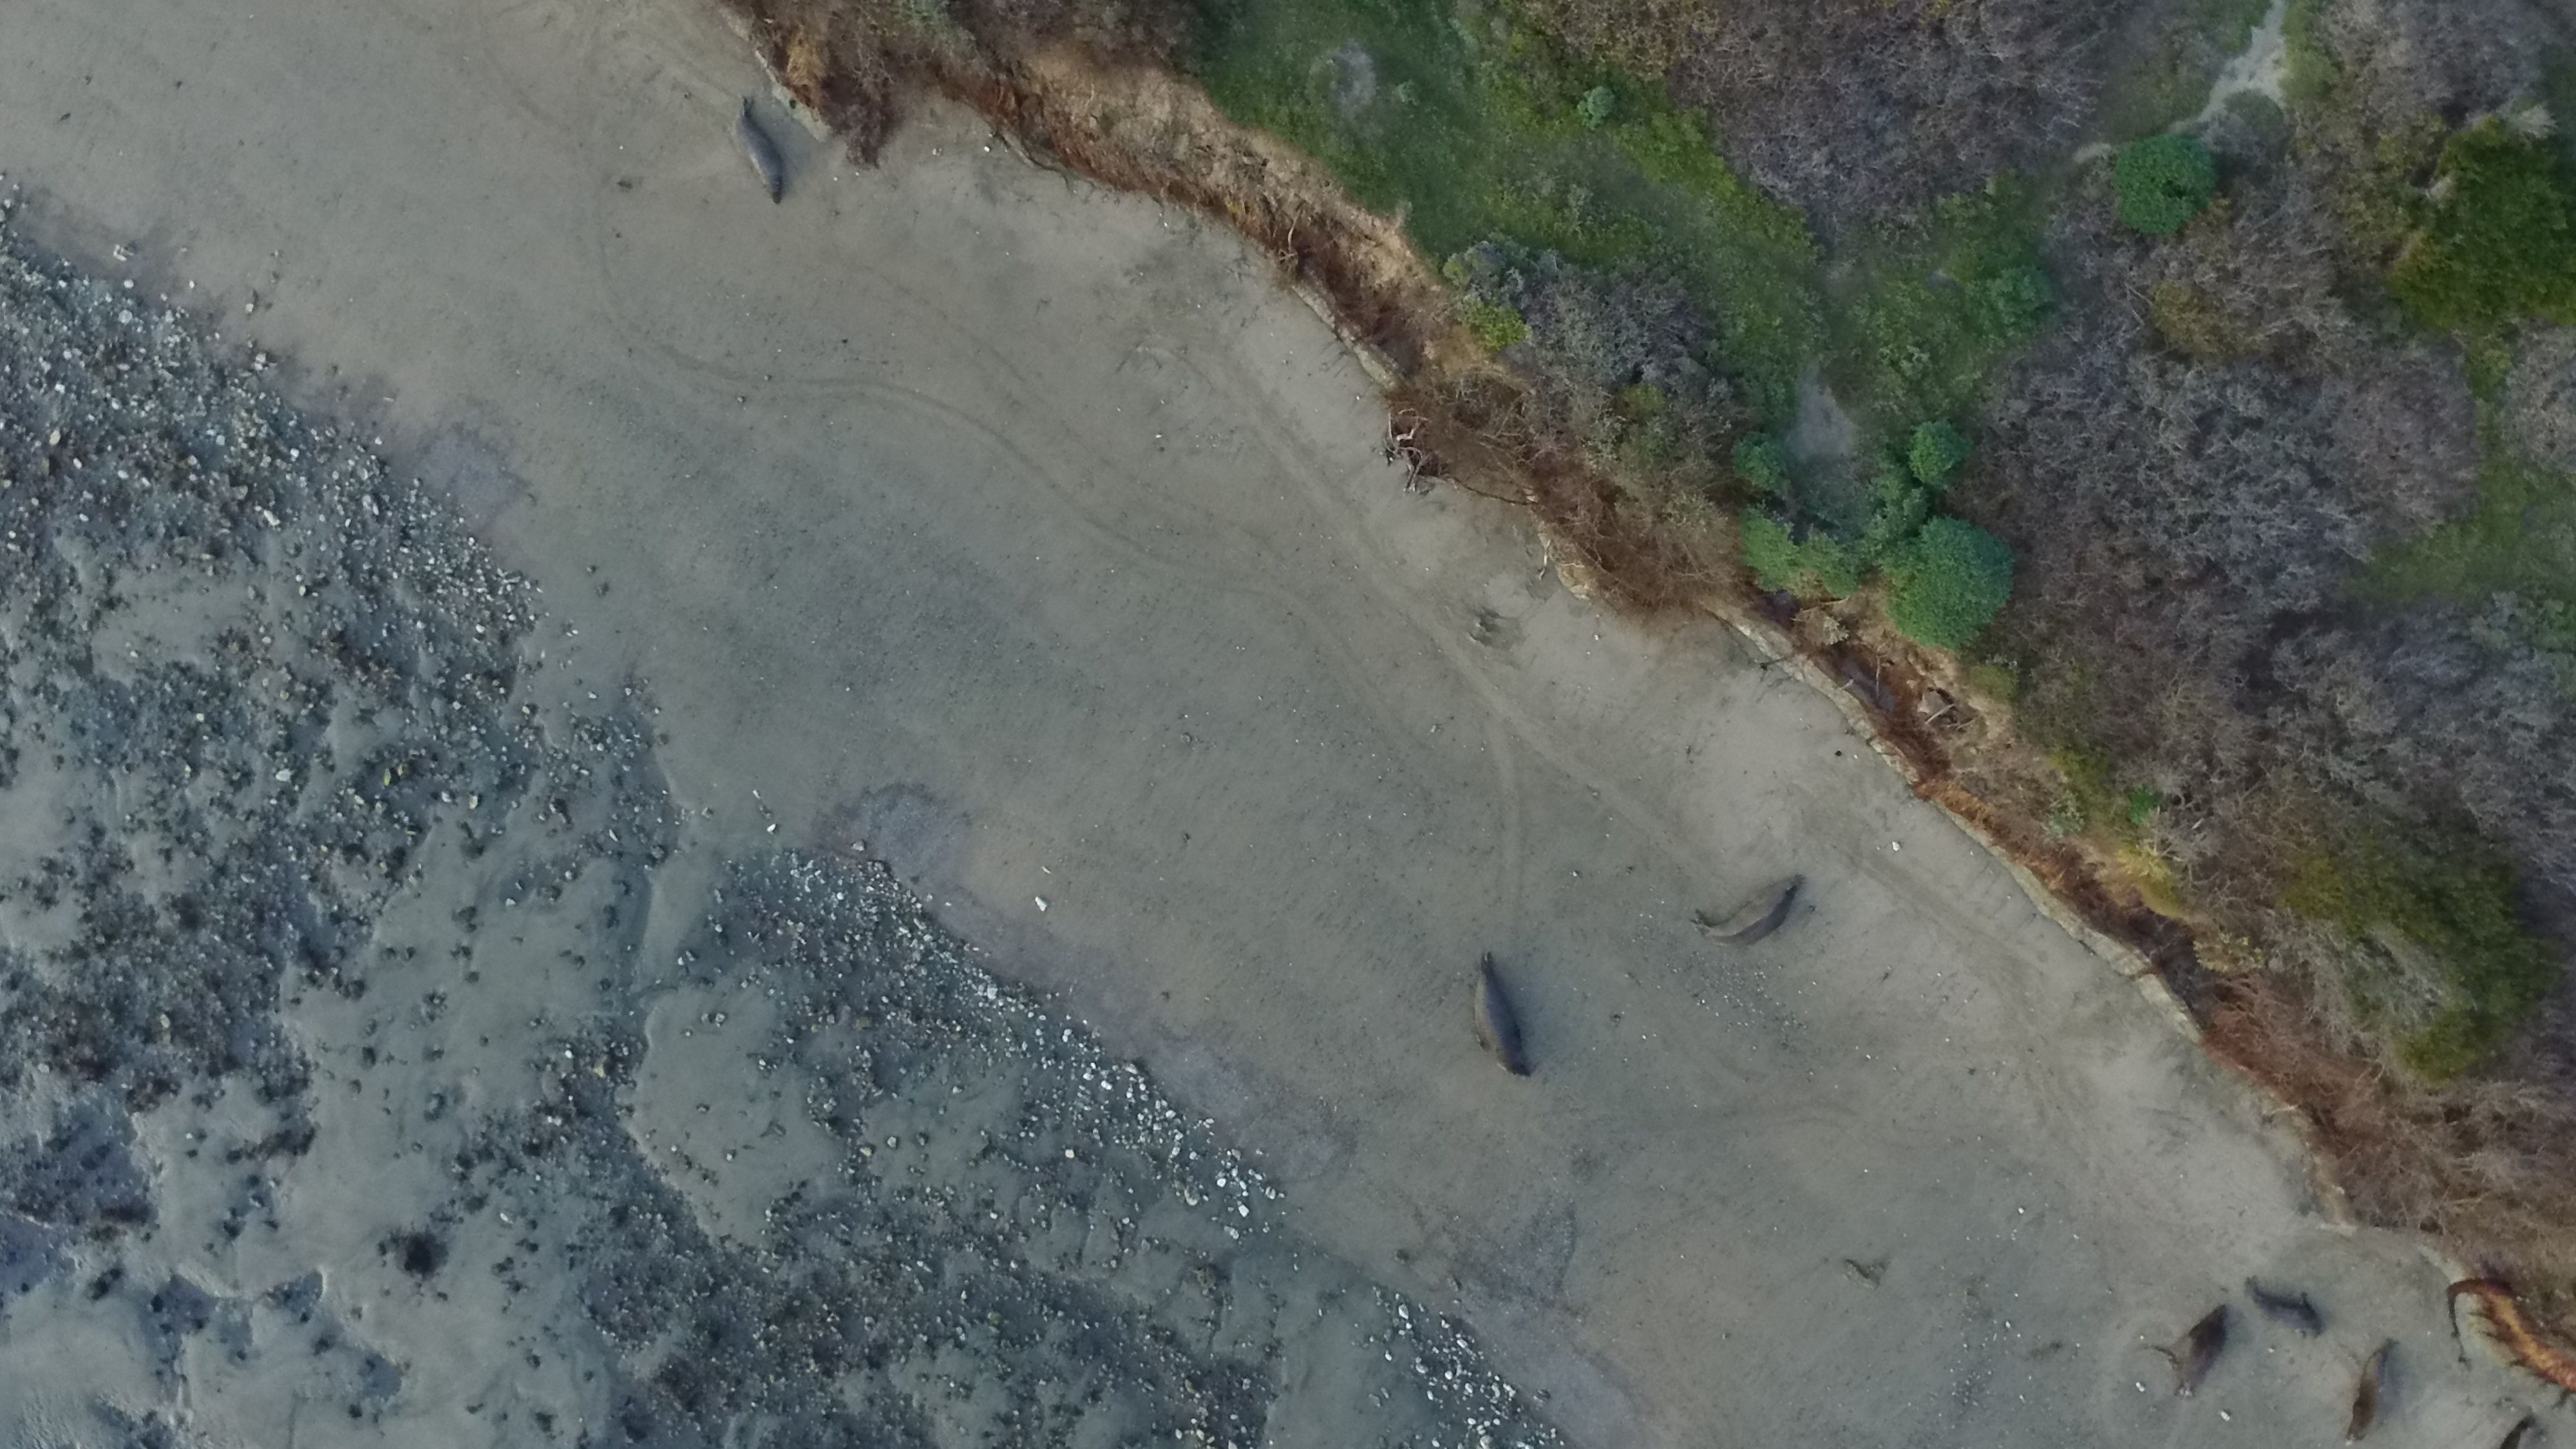adult male: (1488, 959, 1539, 1085)
male juvenile / female juvenile / adult female: (1691, 869, 1815, 950), (2344, 1336, 2408, 1449), (2171, 1304, 2235, 1401), (741, 90, 789, 219), (2254, 1284, 2332, 1343)
